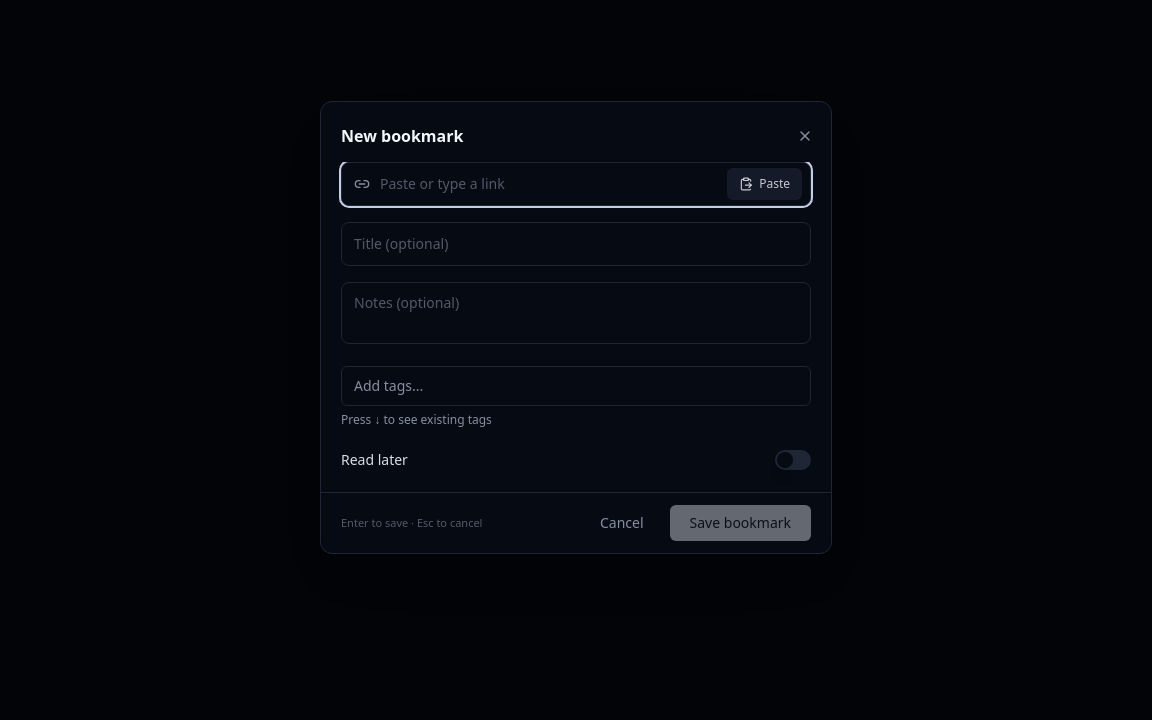
Test: AddBookmarkDialog › Paste button › shows an error when the clipboard has no link
Click the button with aria-label "Paste link from clipboard": (765, 184) [727, 168, 802, 200]
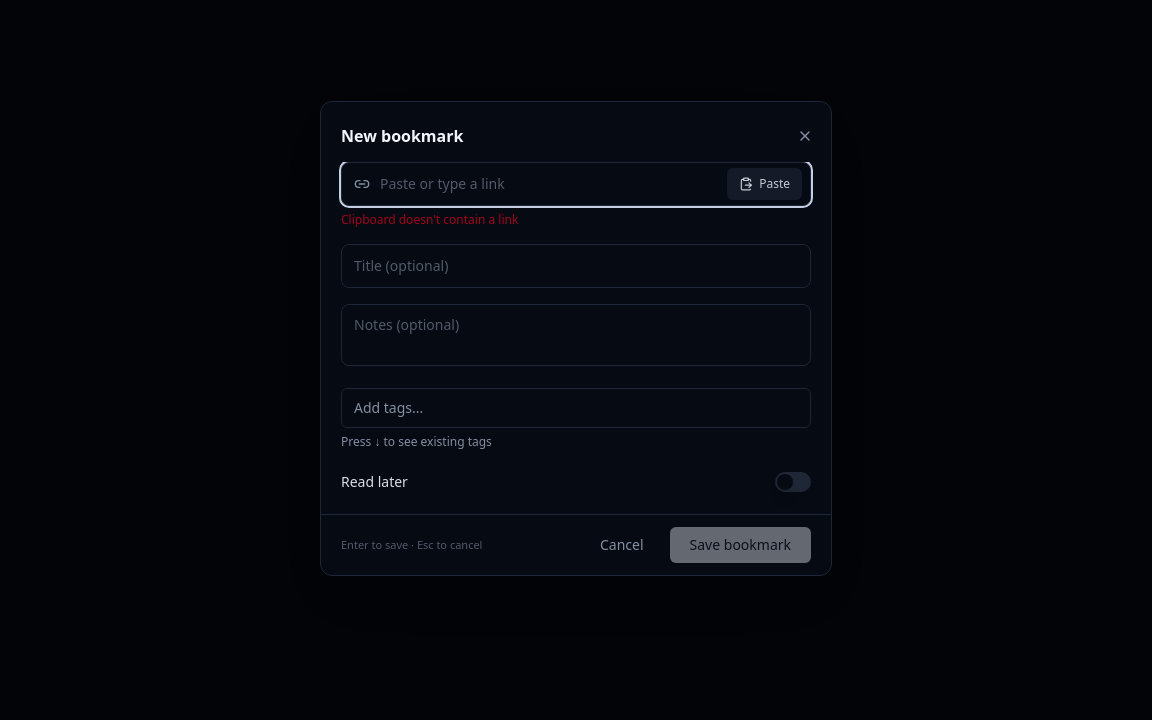
Check: the text "Clipboard doesn't contain a link" is shown, box [341, 211, 518, 228]
